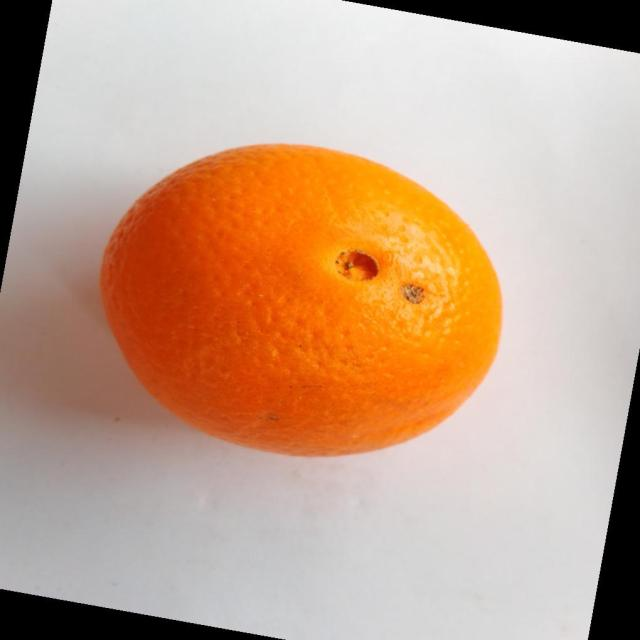fresh orange: (99, 141, 503, 458)
